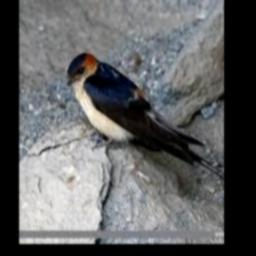Swallow: (66, 53, 224, 179)
